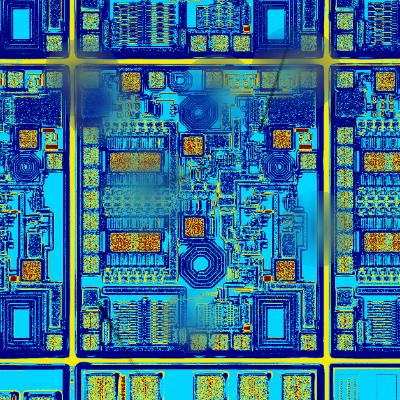Die: (75, 64, 324, 358)
Pad 1: (137, 233, 160, 252), (110, 233, 132, 252), (137, 153, 160, 171), (110, 153, 133, 171), (276, 261, 295, 280), (185, 218, 204, 236), (184, 137, 202, 155), (273, 130, 291, 148), (122, 73, 140, 91)
Pad 2: (83, 234, 99, 253), (83, 211, 99, 230), (83, 255, 99, 273), (83, 190, 99, 208), (83, 147, 99, 165), (83, 169, 99, 187), (300, 153, 317, 169), (83, 127, 99, 144), (83, 334, 99, 350), (206, 72, 222, 88), (212, 334, 228, 350), (83, 72, 99, 88), (149, 72, 164, 88), (83, 313, 99, 328), (262, 72, 277, 88), (191, 334, 206, 350), (234, 335, 250, 350), (301, 335, 316, 350), (301, 72, 316, 87)
